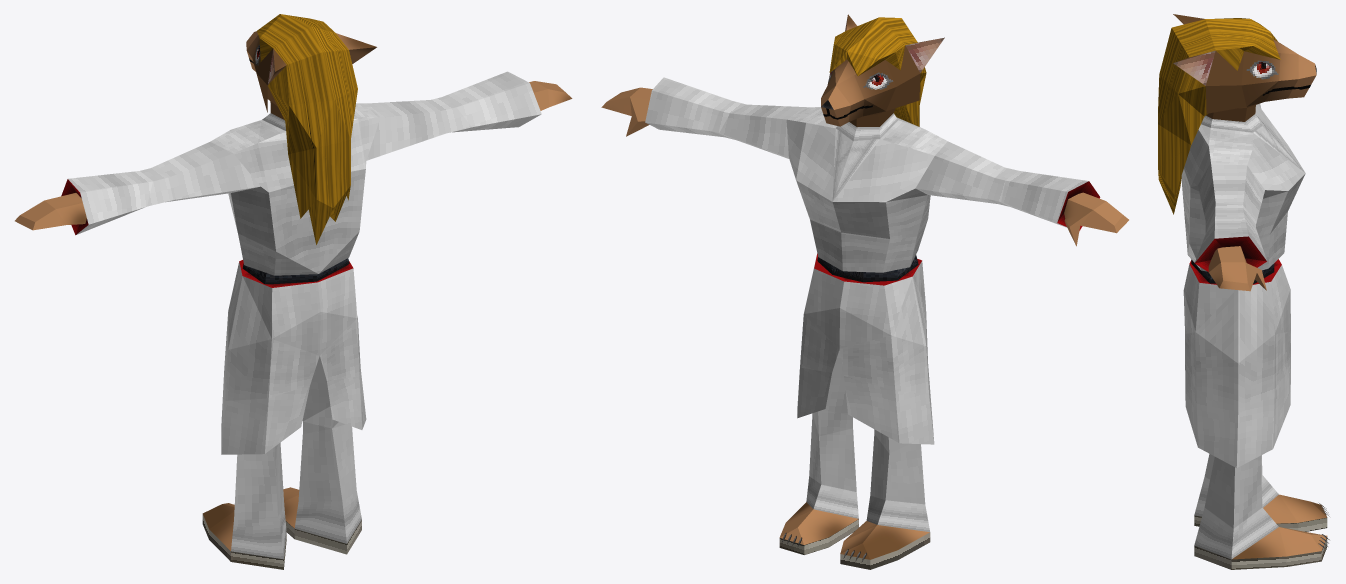
The model's file is player.glb.
The picture shows the model from 3 angles, left to right: view 1: azimuth 30°, elevation 25°; view 2: azimuth 150°, elevation 25°; view 3: azimuth 270°, elevation 25°; orthographic projection. The views are drawn at different scales.
Visible parts, largest first — view 1: Player, HandLeft_Open, HandRight_Open; view 2: Player, HandLeft_Open, HandRight_Open; view 3: Player, HandRight_Open.
Boxes of the visible parts, x1=… form: Player: x1=61, y1=14, x2=541, y2=569; HandLeft_Open: x1=15, y1=193, x2=86, y2=230; HandRight_Open: x1=529, y1=81, x2=572, y2=110; Player: x1=645, y1=14, x2=1100, y2=569; HandLeft_Open: x1=1064, y1=192, x2=1128, y2=246; HandRight_Open: x1=601, y1=87, x2=652, y2=136; Player: x1=1158, y1=14, x2=1329, y2=569; HandRight_Open: x1=1208, y1=246, x2=1266, y2=291.
Size of the model in its own units: 1.47 by 1.37 by 0.414.
Materials: 12 (12 with a texture image).
